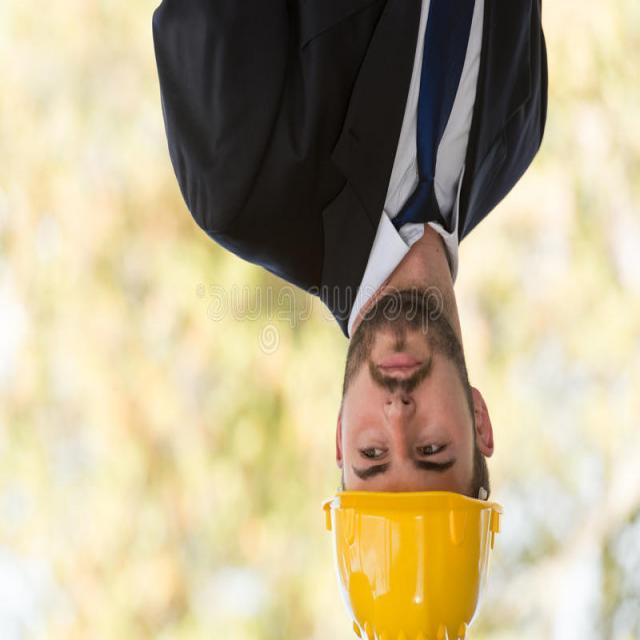safetyhelmet: (311, 303, 524, 631)
